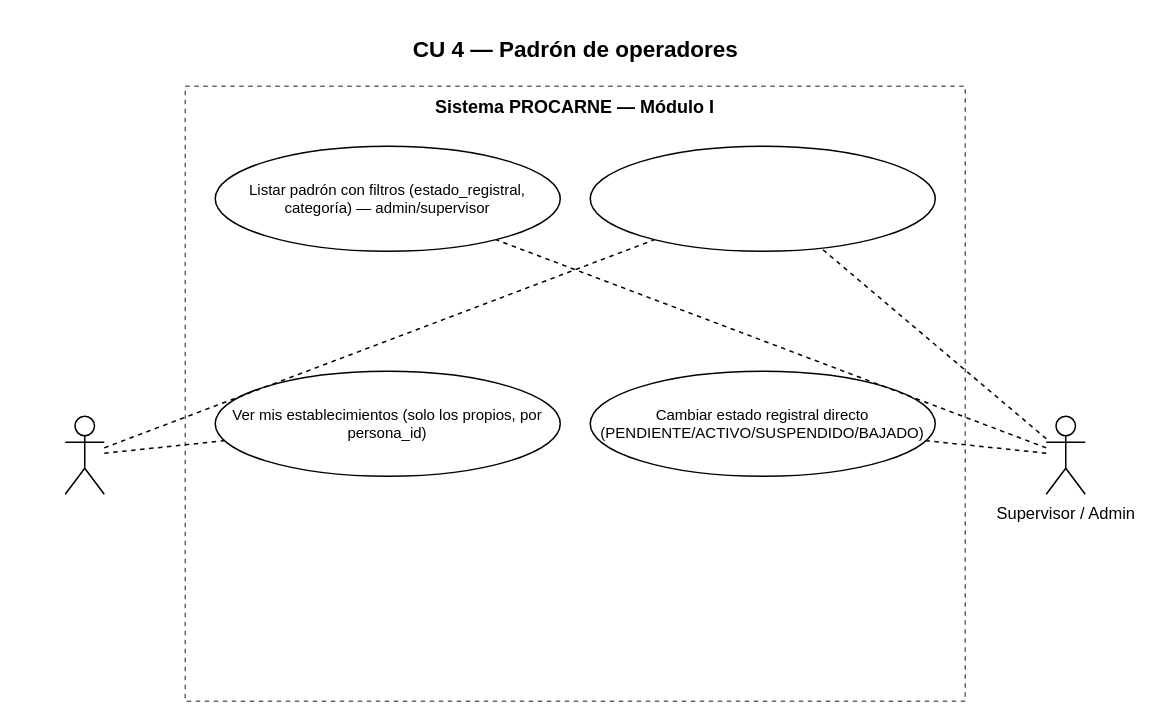
The diagram is 1161 pixels wide and 728 high, and some of its shapes have lost their labels. The shapes that lost their labels are listed below. From the top down, each one's centre as x and y in pixels, then its label:
At pixel 762 198: "Obtener operador por id".
At pixel 84 454: "Persona (titular)".
